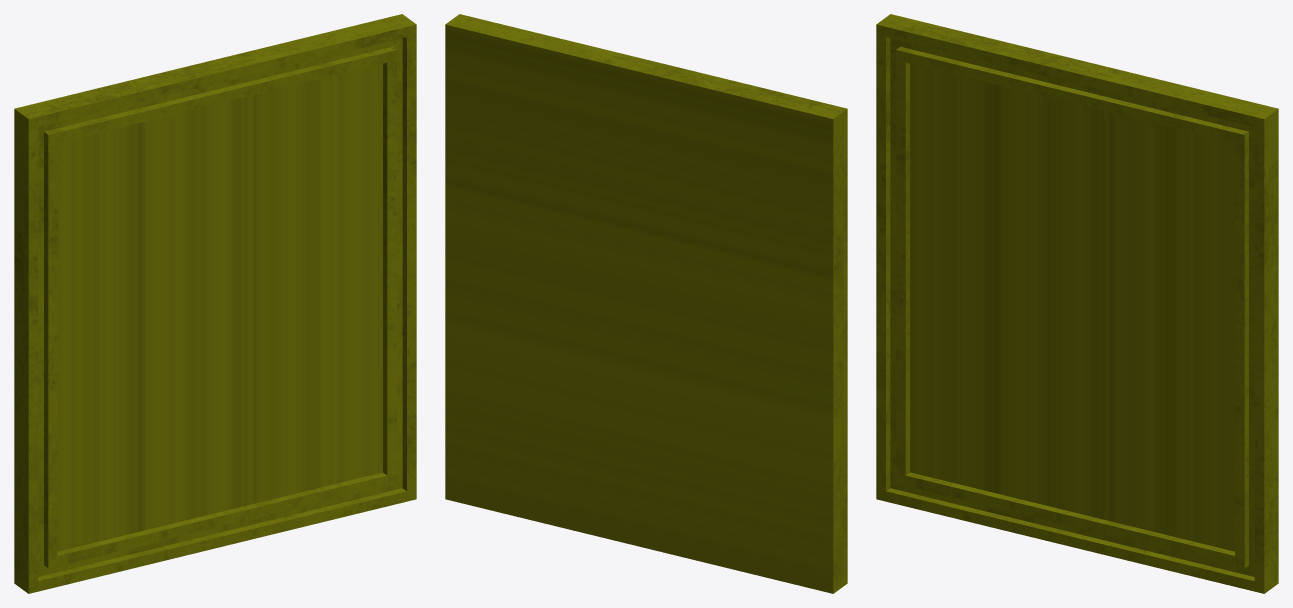
The model's file is Picture_Frame1.fbx.
The picture shows the model from 3 angles, left to right: view 1: azimuth 30°, elevation 25°; view 2: azimuth 150°, elevation 25°; view 3: azimuth 330°, elevation 25°; orthographic projection.
Visible parts, largest first — view 1: Picture_Frame1; view 2: Picture_Frame1; view 3: Picture_Frame1.
Boxes of the visible parts, box(x1,y1,x2,y2) form: Picture_Frame1: box(14, 14, 416, 593); Picture_Frame1: box(445, 14, 847, 593); Picture_Frame1: box(876, 14, 1278, 593).
Bounding box in the file's own units: 592 × 692 × 37.93.
Materials: 1 (1 with a texture image).
